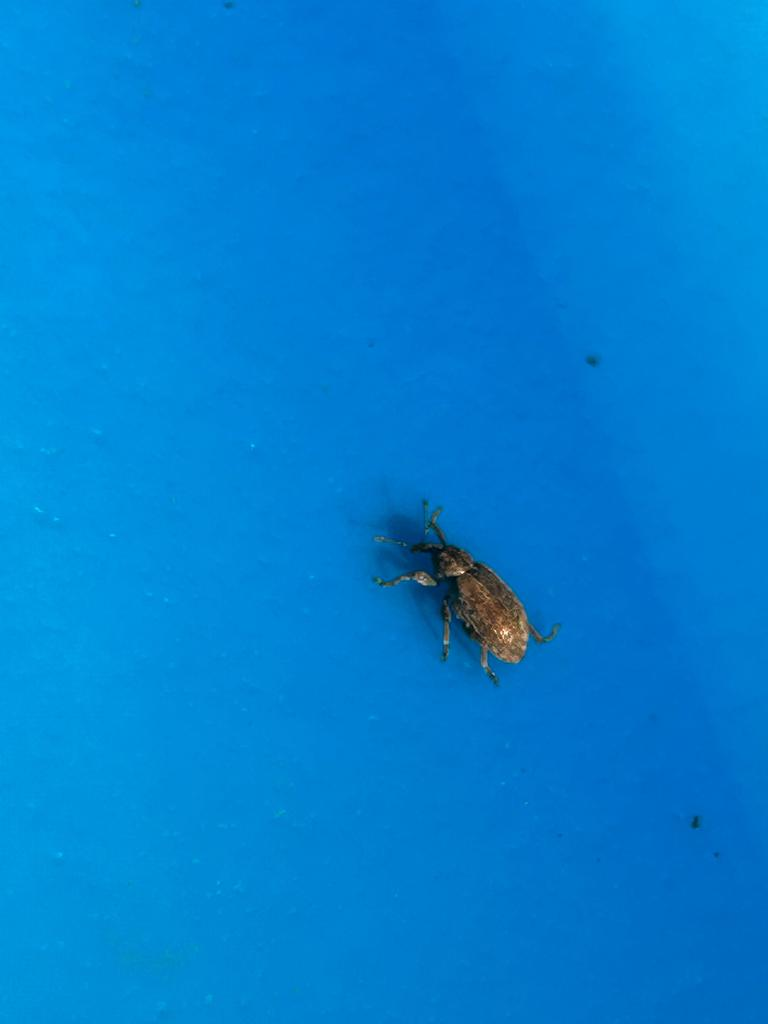weevils: (337, 464, 613, 727)
